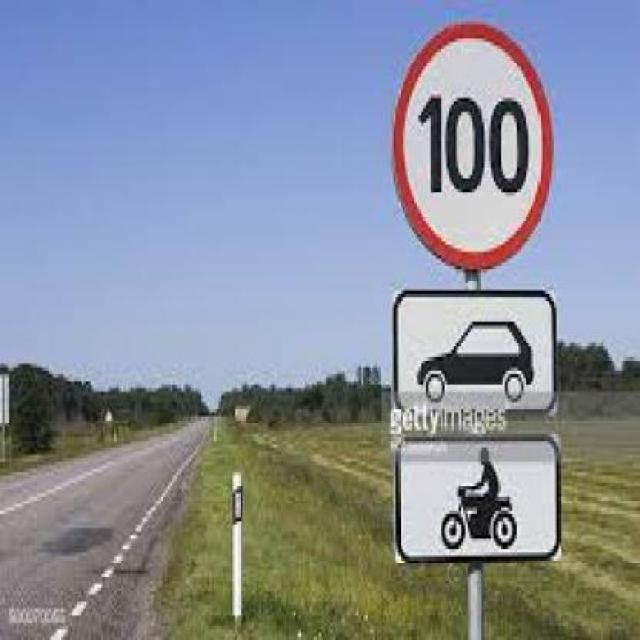forb_speed_over_100: (393, 35, 556, 262)
